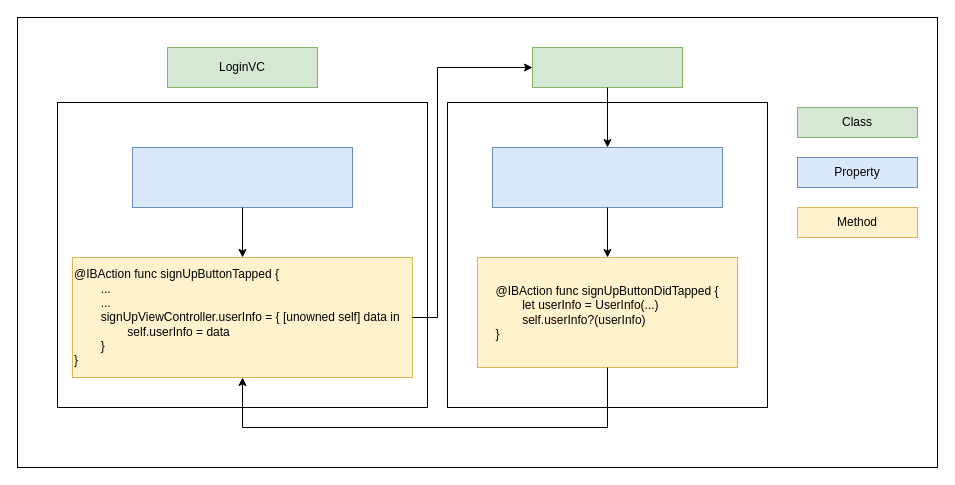
Some shapes in this 955 by 485 pixel diagram are drawn without their labels. Here are the shapes that lost their labels. From the top down, the box of each, then its label:
(532, 46, 682, 88): SignUpVC
(132, 146, 352, 208): var userInfo: UserInfo?
(492, 146, 722, 208): var userInfo: ((UserInfo) -> Void)?
